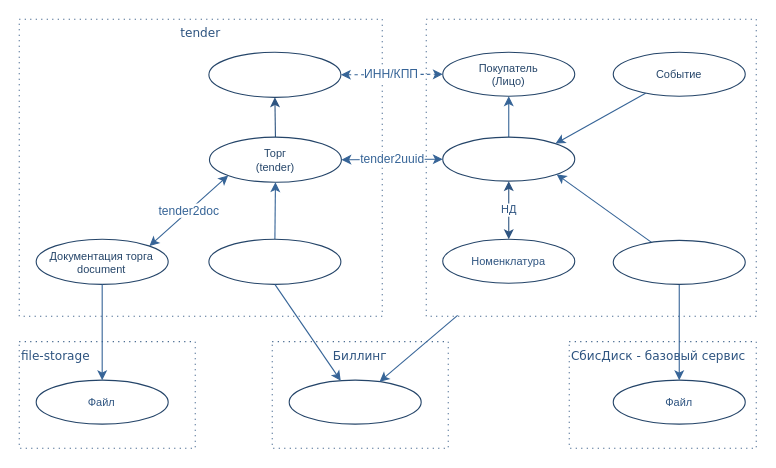
The diagram is 776 pixels wide and 468 high, and some of its shapes have lost their labels. The shapes that lost their labels are listed below. From the top down, each one's box as (x1, y1, x2, y2) in pixels, then its label:
(208, 51, 341, 97): Заказчик (participant)
(442, 136, 575, 181): Участие в торге (Документ)
(425, 18, 756, 316): Online участника
(208, 238, 341, 284): Признак участия fav.interesting
(612, 239, 745, 284): ВнешнийДокумент
(288, 379, 421, 424): client
